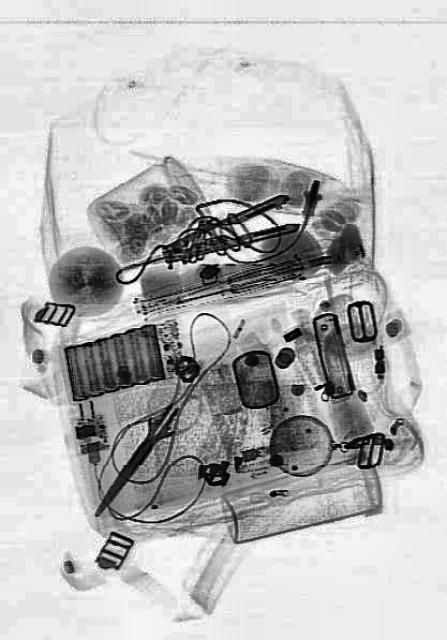Knife: (84, 392, 184, 526)
